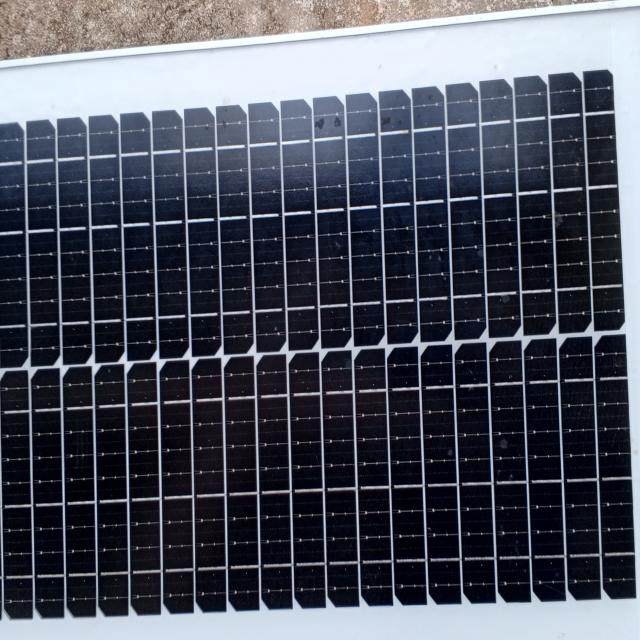Clean: (9, 79, 640, 621)
